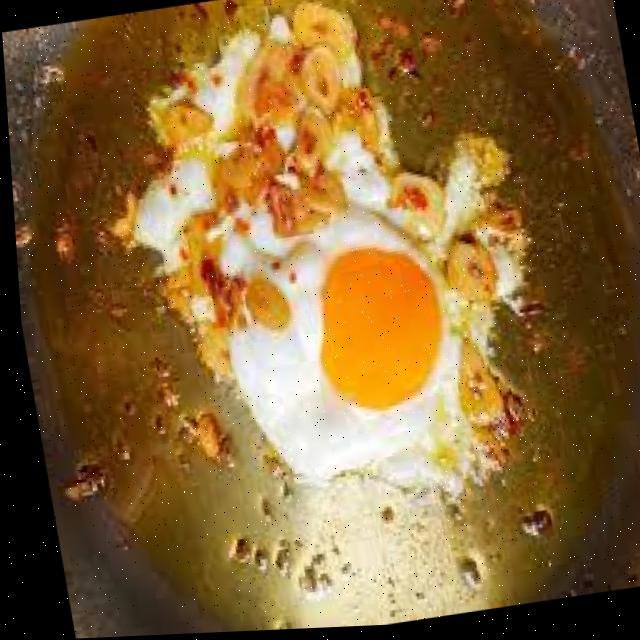Egg: (128, 5, 515, 497)
